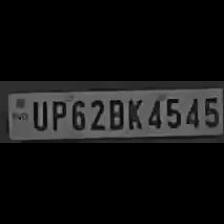2: (87, 96, 105, 130)
4: (144, 95, 162, 129), (182, 94, 200, 128)
5: (200, 94, 220, 128), (162, 94, 180, 128)
6: (66, 97, 86, 131)
B: (105, 96, 124, 130)
K: (125, 96, 143, 130)
P: (48, 97, 66, 131)
U: (29, 97, 47, 130)
